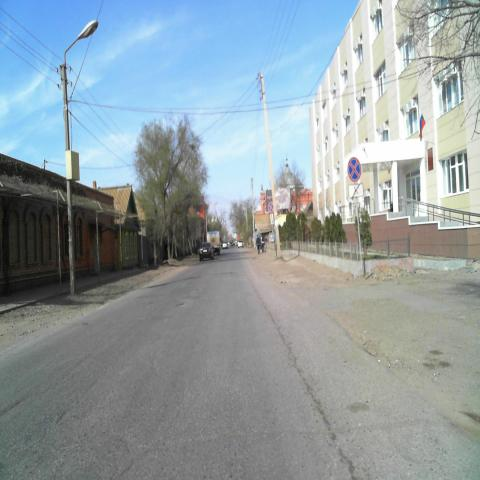8_18: (349, 184, 364, 197)
